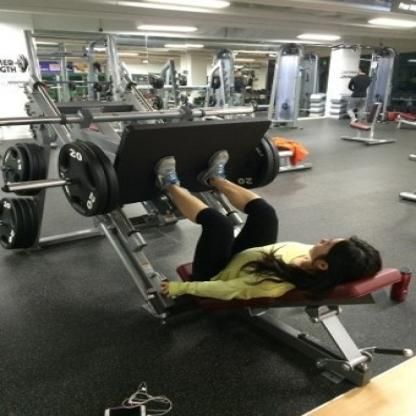leg press: (0, 71, 416, 391)
